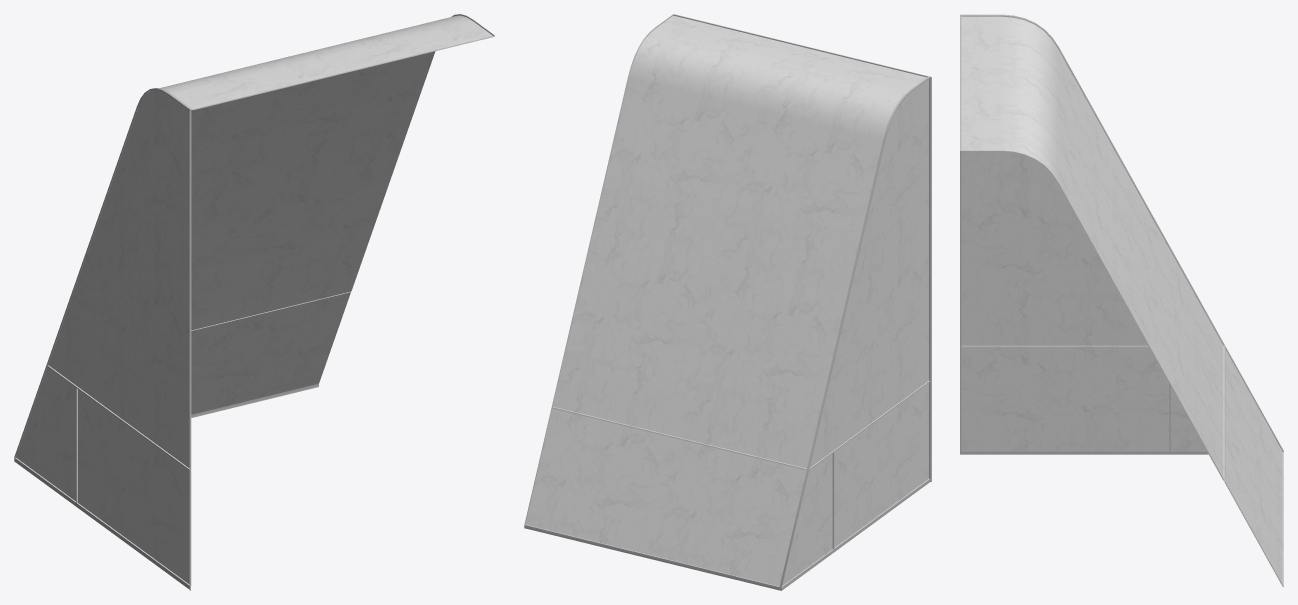
3 renders of one model, left to right at view 1: azimuth 30°, elevation 25°; view 2: azimuth 150°, elevation 25°; view 3: azimuth 270°, elevation 25°, orthographic. The views are drawn at different scales.
Parts seen in each view (by area): view 1: M_W_005_j_8x12; view 2: M_W_005_j_8x12; view 3: M_W_005_j_8x12.
Boxes of the visible parts, x1,y1,x2,y2 form: M_W_005_j_8x12: (14, 14, 495, 590); M_W_005_j_8x12: (524, 14, 931, 590); M_W_005_j_8x12: (960, 14, 1283, 586).
Bounding box in the file's own units: 8 × 8 × 12.
